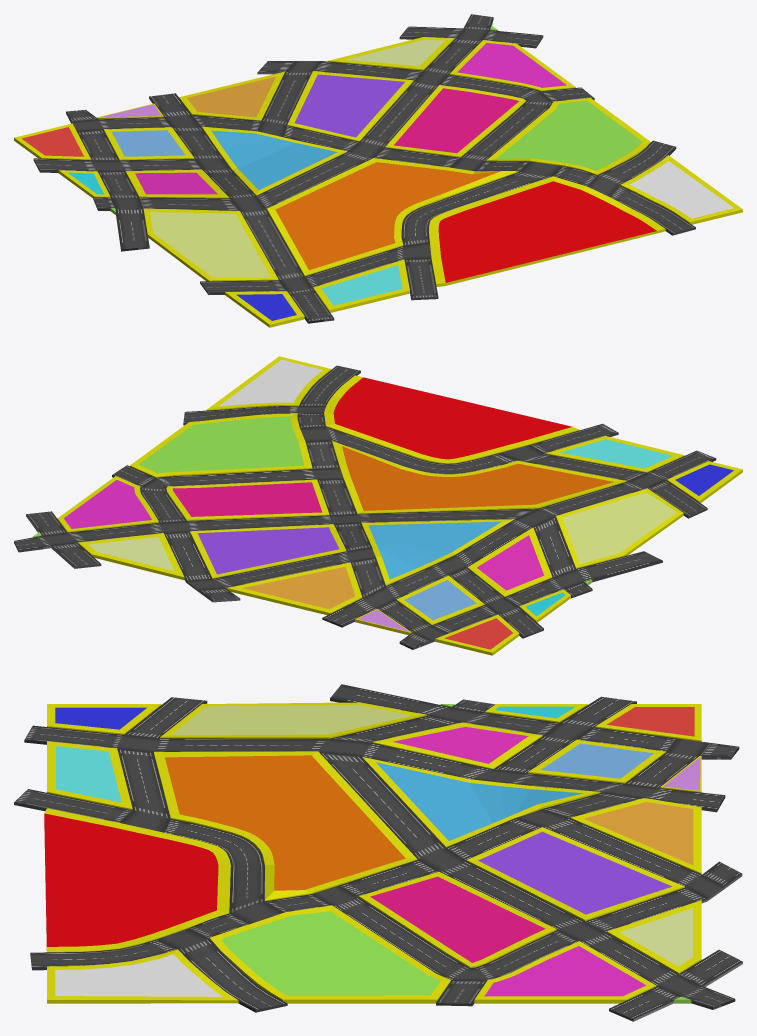
The model's file is City_01 (1).fbx.
The picture shows the model from 3 angles, top to bottom: view 1: azimuth 30°, elevation 25°; view 2: azimuth 150°, elevation 25°; view 3: azimuth 270°, elevation 25°; orthographic projection. The views are drawn at different scales.
Visible parts, largest first — view 1: Building, Road; view 2: Building, Road; view 3: Building, Road.
Part boxes in pixels (x1,y1,x2,y2): Building: (14, 25, 742, 327); Road: (33, 14, 695, 323); Building: (33, 356, 742, 655); Road: (14, 365, 716, 649); Building: (44, 702, 701, 1003); Road: (14, 684, 742, 1021).
Bounding box in the file's own units: 50878 × 1526 × 46774.
